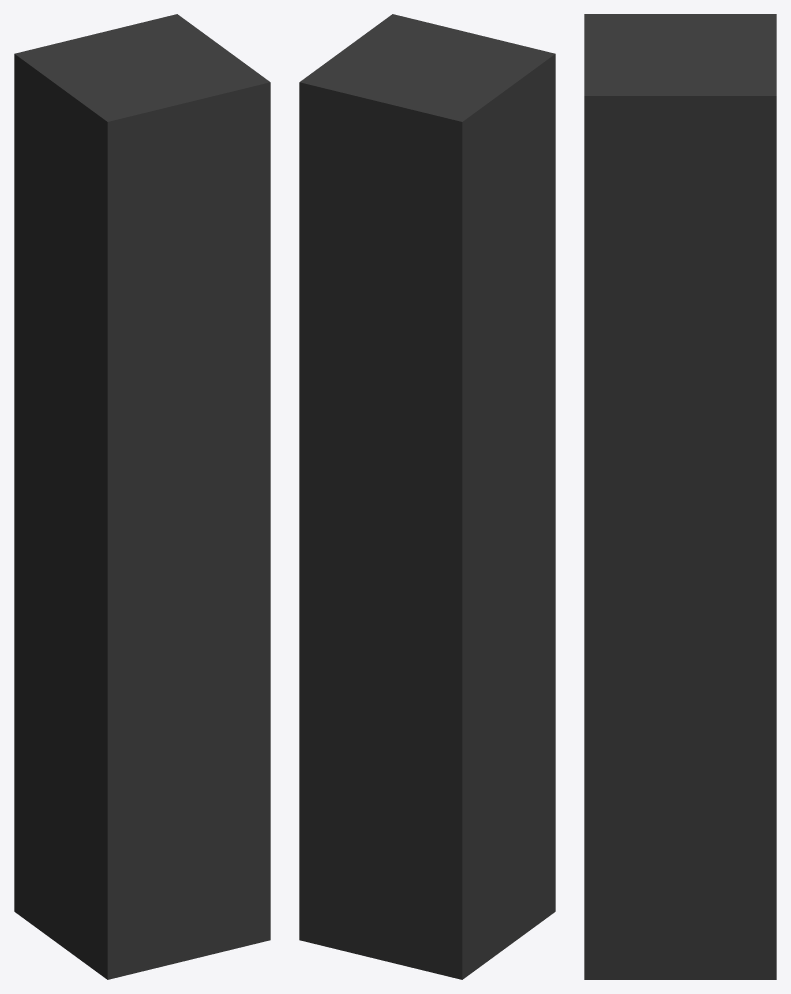
Rendered from romantypecol_01.glb.
The picture shows the model from 3 angles, left to right: view 1: azimuth 30°, elevation 25°; view 2: azimuth 150°, elevation 25°; view 3: azimuth 270°, elevation 25°; orthographic projection. The views are drawn at different scales.
Parts seen in each view (by area): view 1: geometry_0; view 2: geometry_0; view 3: geometry_0.
Boxes of the visible parts, x1,y1,x2,y2 form: geometry_0: (14,14,270,979); geometry_0: (299,14,555,979); geometry_0: (584,14,776,979).
Size of the model in its own units: 1.38 by 6.97 by 1.37.
Materials: 1 (1 with a texture image).
